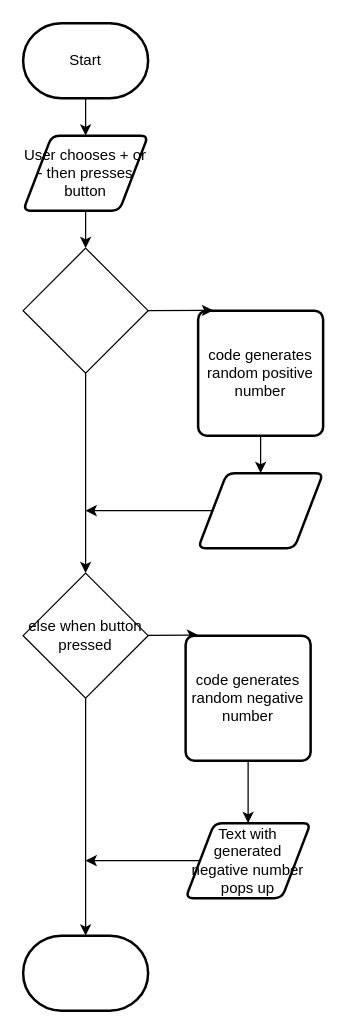
Some shapes in this 345 by 1033 pixel diagram are drawn without their labels. The shapes that lost their labels are listed below. From the top down, each one's centre as x and y in pixels, then its label:
(85,310): if + was chosen when button was pressed
(260,510): Text with generated positive number pops up
(85,972): Stop
